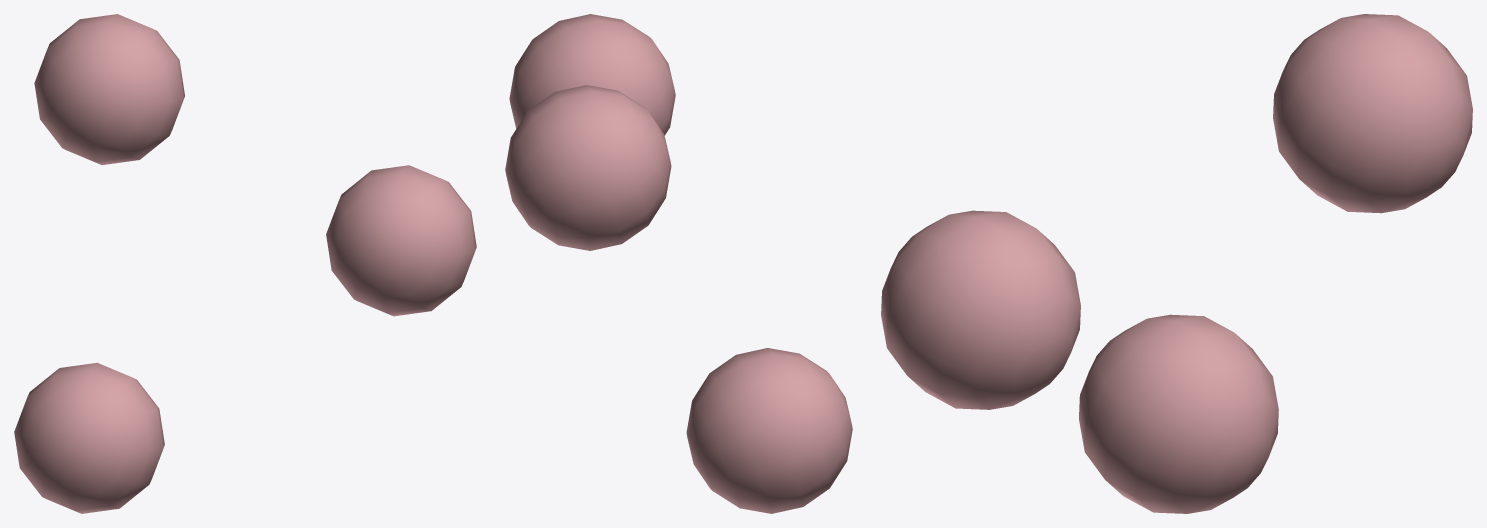
3 views of the same model, side by side, from view 1: azimuth 30°, elevation 25°; view 2: azimuth 150°, elevation 25°; view 3: azimuth 270°, elevation 25° (orthographic). The views are drawn at different scales.
Parts seen in each view (by area): view 1: ZA_c63a484962869bb1; view 2: ZA_c63a484962869bb1; view 3: ZA_c63a484962869bb1.
Boxes of the visible parts, x1=… form: ZA_c63a484962869bb1: x1=14, y1=14, x2=476, y2=513; ZA_c63a484962869bb1: x1=505, y1=14, x2=852, y2=513; ZA_c63a484962869bb1: x1=881, y1=14, x2=1472, y2=513.
Size of the model in its own units: 0.00723 by 0.0077 by 0.00758.
